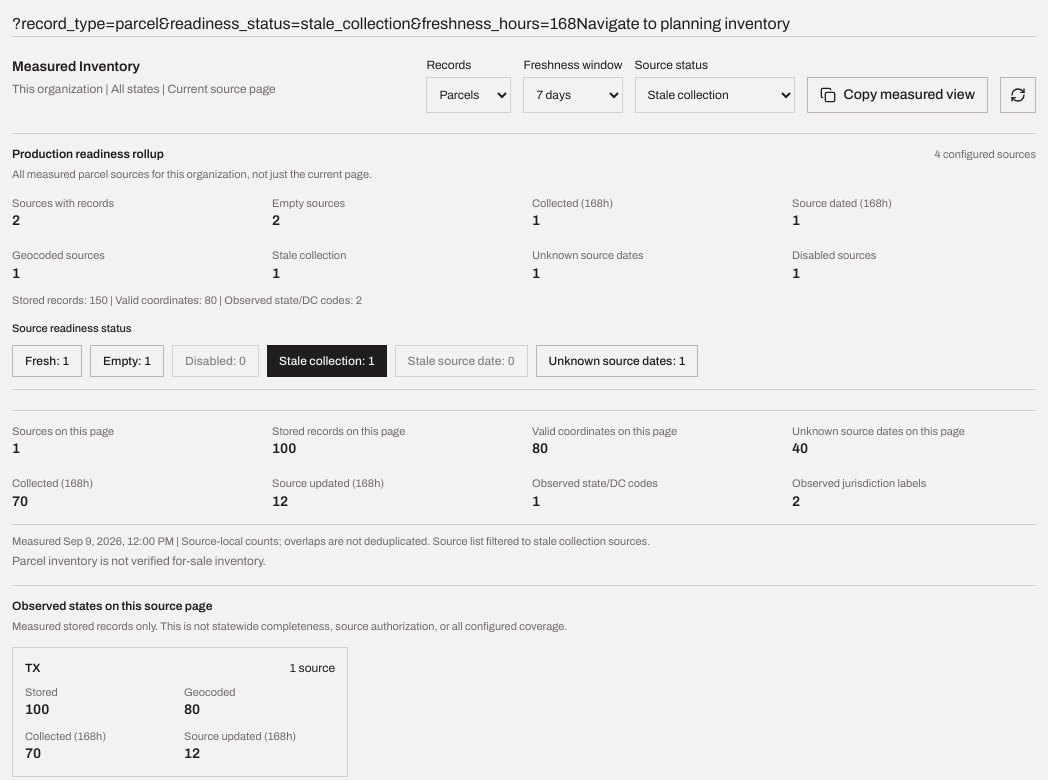
Test: MeasuredCoveragePanel › hydrates the source status filter from the URL and preserves it across record type changes
The width and height of the screenshot is (1048, 780).
Expected: the dropdown labelled "Source status" shows "Stale collection", [634,77,794,113]
Expected: the dropdown labelled "Freshness window" shows "7 days", [523,77,622,113]
Step 1. Select "Planning" in the dropdown labelled "Records" → (469, 95), box [426,77,511,113]
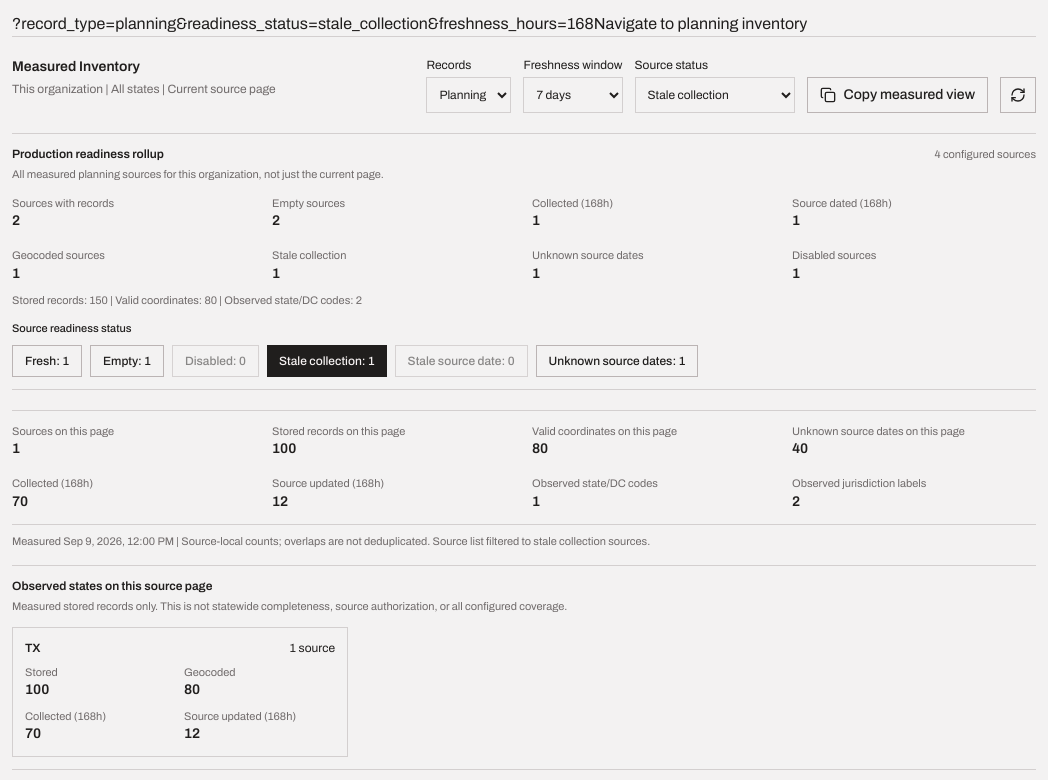
Result: the text with test id "location-search" reads "?record_type=planning&readiness_status=stale_collection&freshness_hours=168" at [12,15,594,32]
